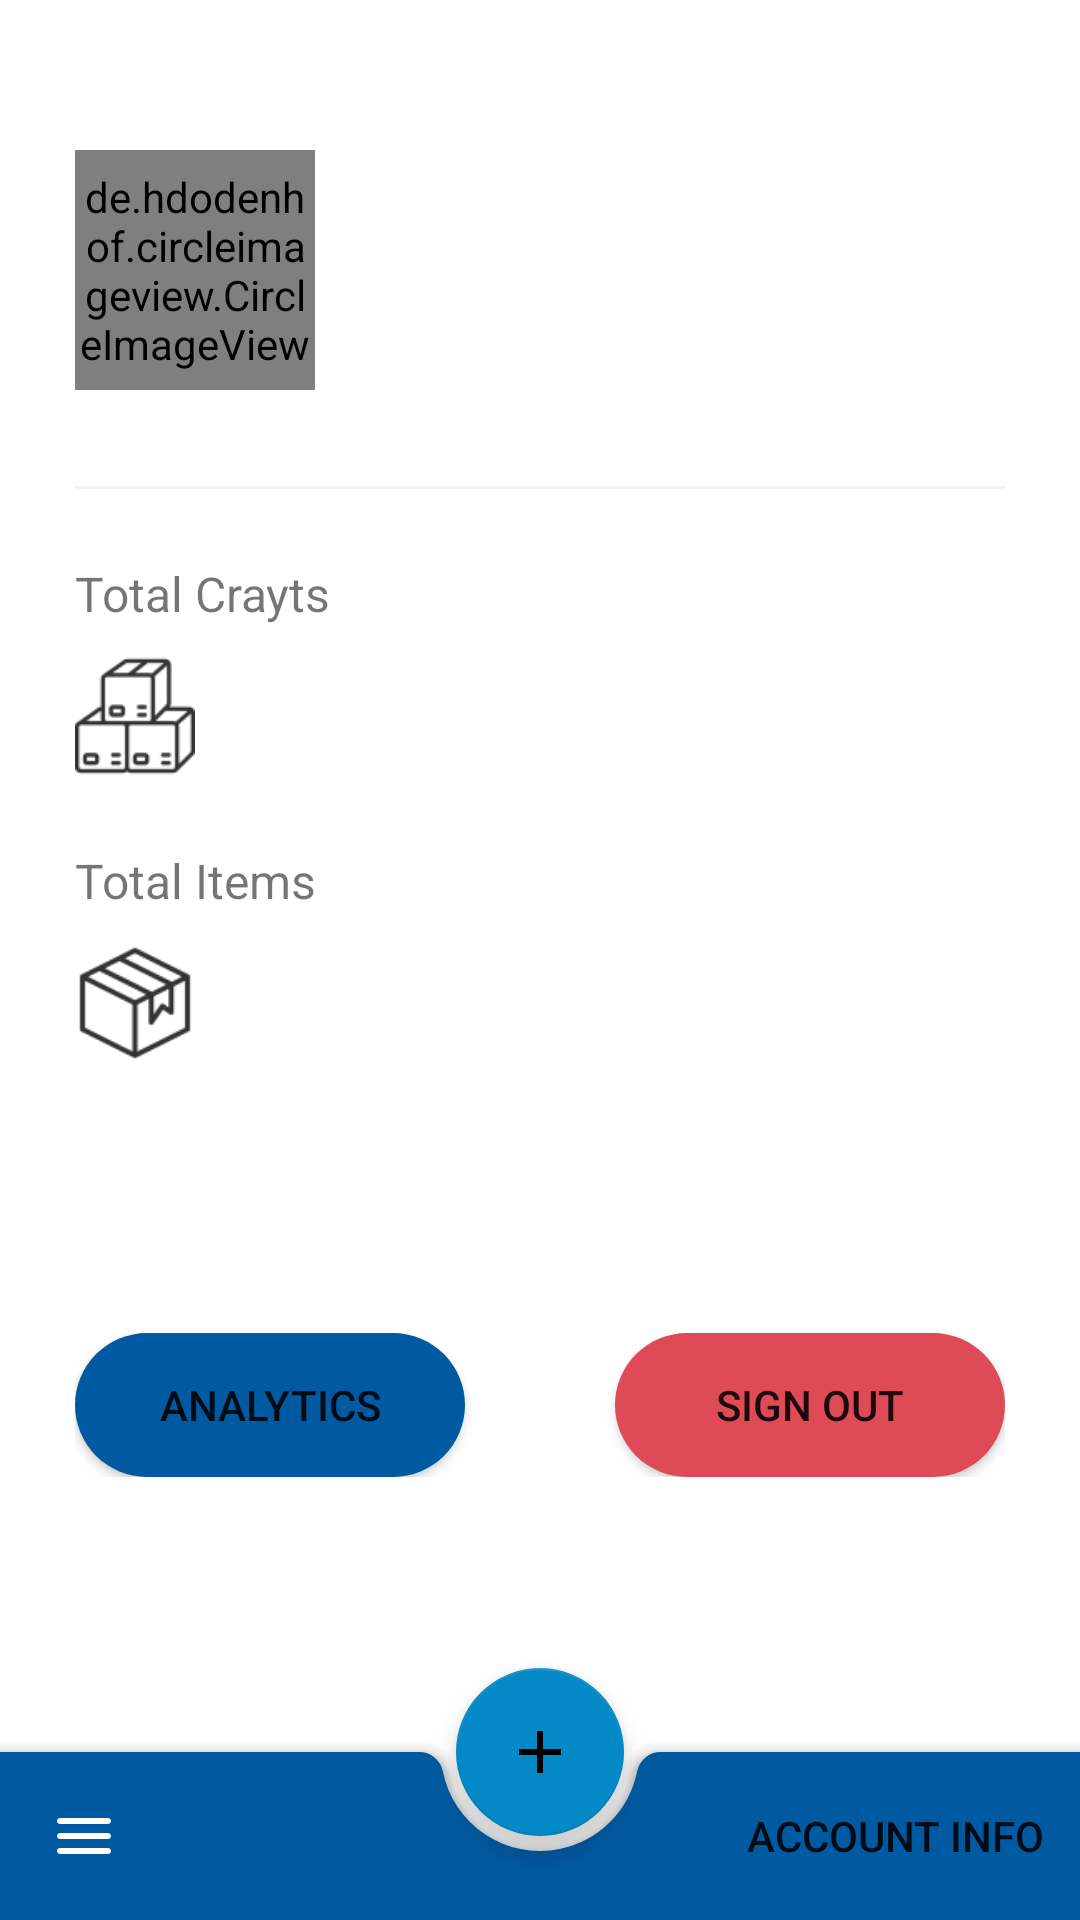

Screen size 1080px x 1920px. Icon name, then its center in pixels as (x=x, y=y):
add: (x=540, y=1752)
box: (x=135, y=1003)
boxes: (x=135, y=716)
